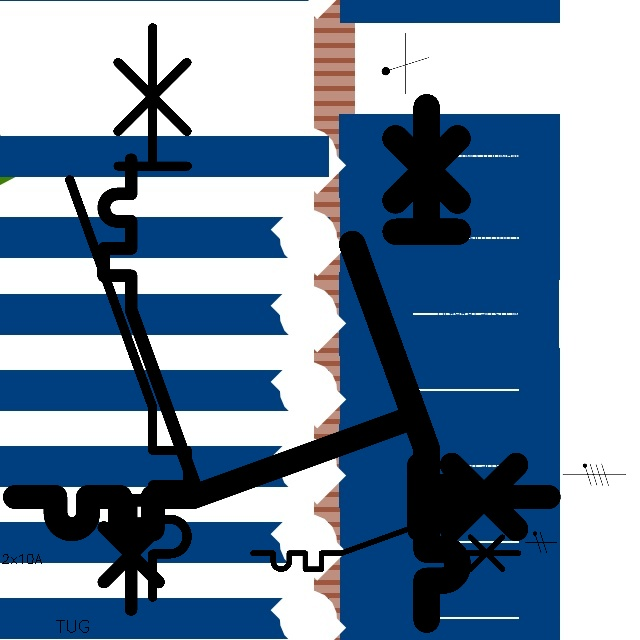interruptor_termomagnetico: (55, 13, 202, 612), (1, 406, 562, 543), (339, 94, 471, 633), (92, 148, 207, 621), (246, 508, 525, 576)
